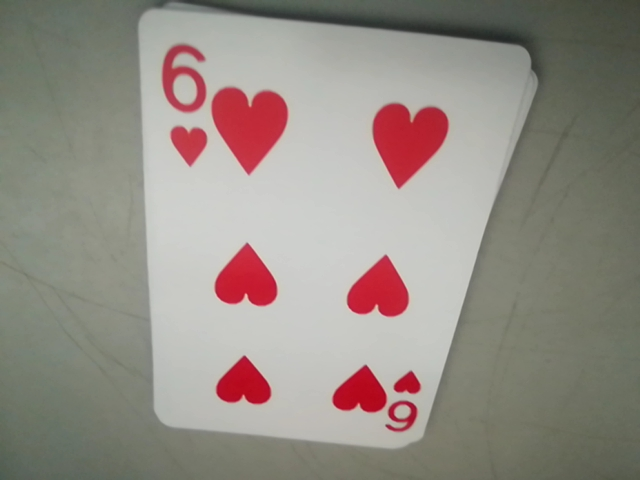hx 6: (158, 43, 209, 170), (385, 363, 422, 436)
